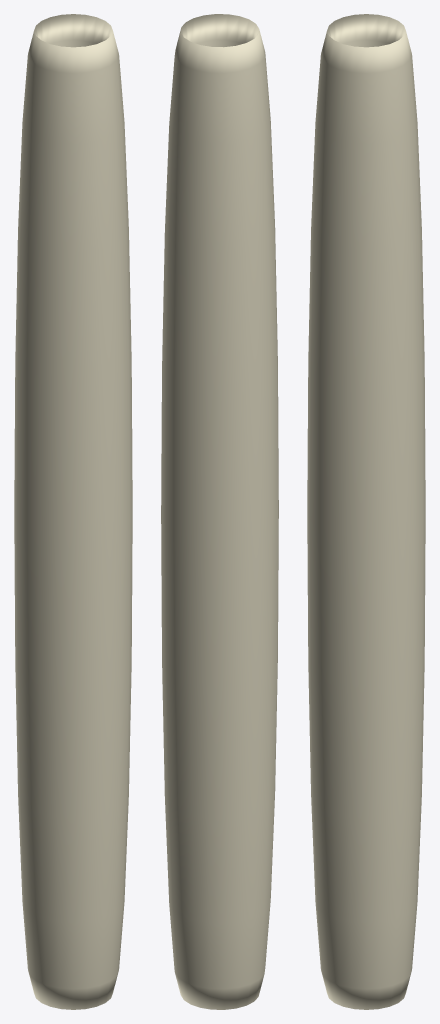
Rendered from hole.fbx.
3 renders of one model, left to right at view 1: azimuth 90°, elevation 25°; view 2: azimuth 150°, elevation 25°; view 3: azimuth 270°, elevation 25°, orthographic.
Visible parts, largest first — view 1: pTorus1; view 2: pTorus1; view 3: pTorus1.
Part boxes in pixels (left/top/right/bottom): pTorus1: left=14, top=14, right=132, bottom=1009; pTorus1: left=161, top=14, right=278, bottom=1009; pTorus1: left=307, top=14, right=425, bottom=1009.
Bounding box in the file's own units: 6.66 × 59.7 × 6.66.
